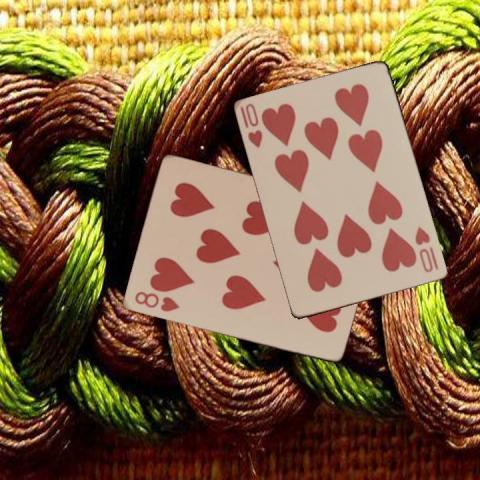10h: (412, 223, 441, 274), (237, 100, 265, 149)
8h: (131, 289, 180, 313)
